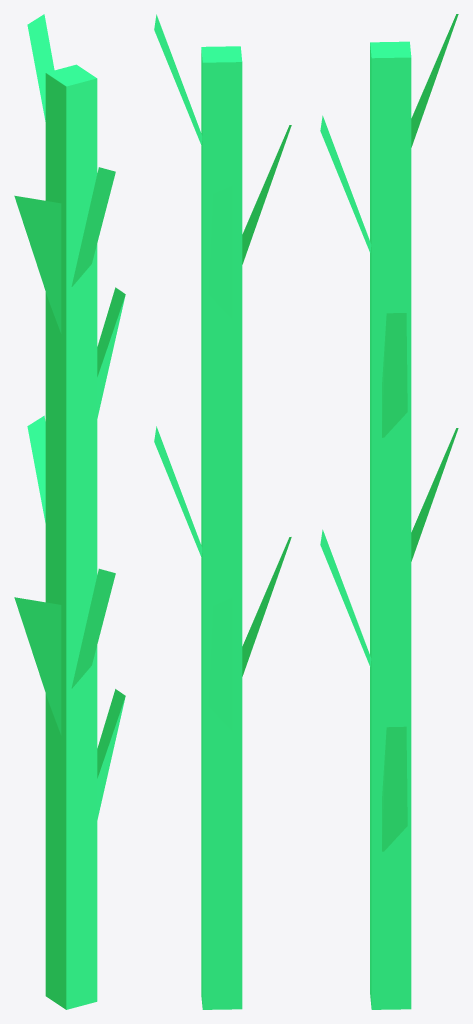
The model's file is seagrass1.fbx.
The picture shows the model from 3 angles, left to right: view 1: azimuth 90°, elevation 25°; view 2: azimuth 150°, elevation 25°; view 3: azimuth 330°, elevation 25°; orthographic projection. The views are drawn at different scales.
Parts seen in each view (by area): view 1: Corallo.023; view 2: Corallo.023; view 3: Corallo.023.
Part boxes in pixels (x1,y1,x2,y2): Corallo.023: (14,14,125,1009); Corallo.023: (154,14,291,1009); Corallo.023: (320,14,458,1009).
Bounding box in the file's own units: 87.3 × 782 × 82.3.
